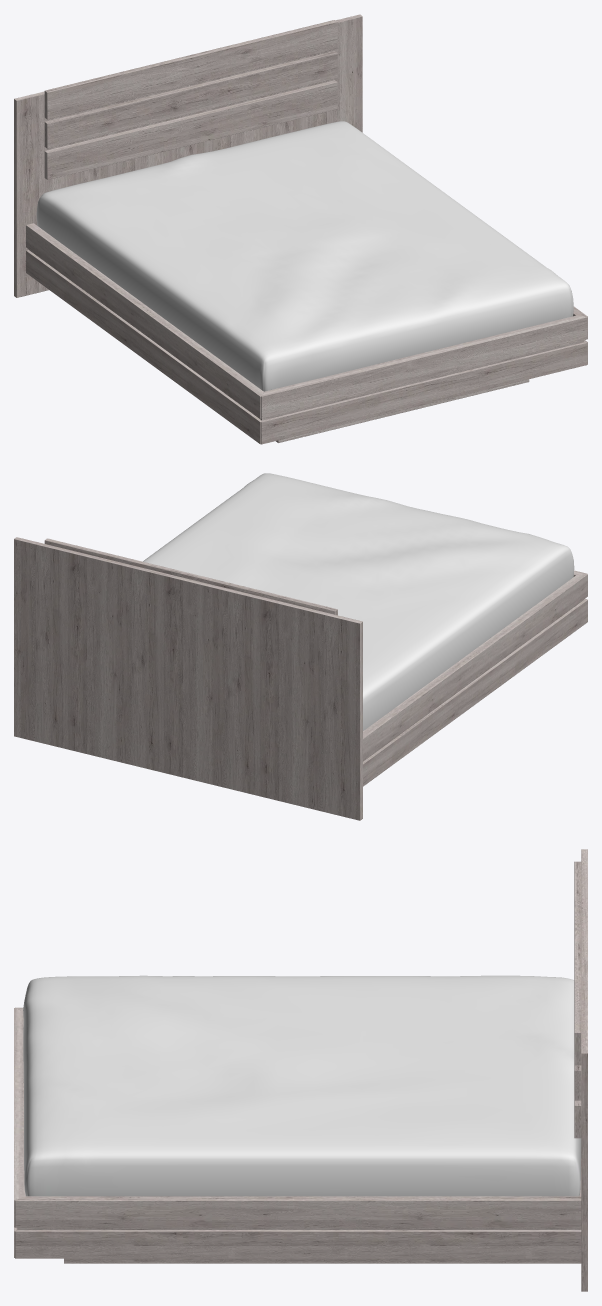
File: abo-B07H8V14K5.glb
3 renders of one model, top to bottom at view 1: azimuth 30°, elevation 25°; view 2: azimuth 150°, elevation 25°; view 3: azimuth 270°, elevation 25°, orthographic. The views are drawn at different scales.
Bounding box in the file's own units: 1.75 × 0.97 × 2.08.
1 material, 1 textured.
